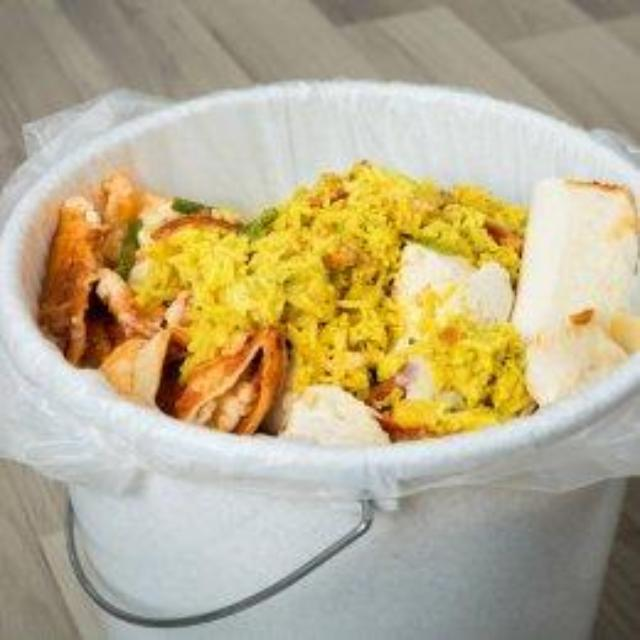Garbage: (39, 161, 640, 442)
